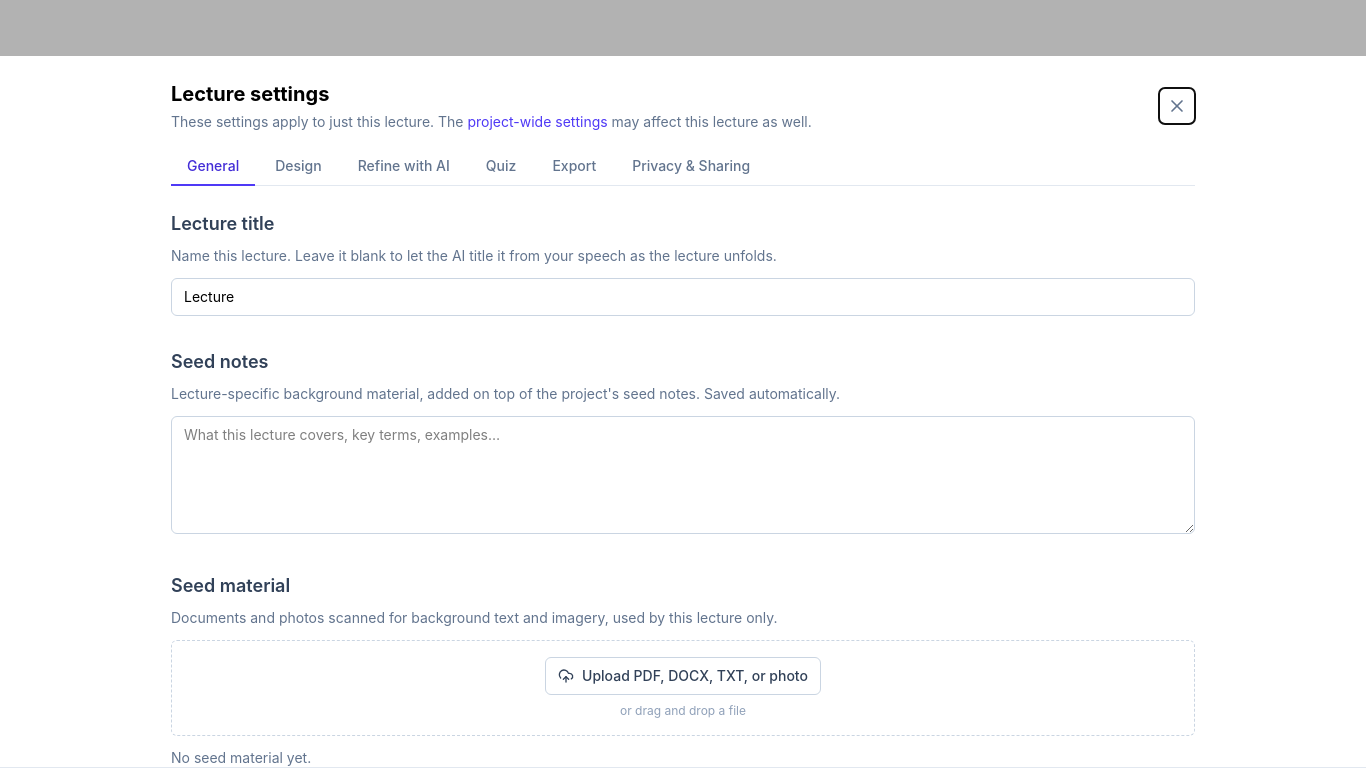
Test: DeckSettingsModal — Refine tab › disables speaker identification without retained audio
Click the tab "Refine with AI": [404, 167] box [342,148,466,186]
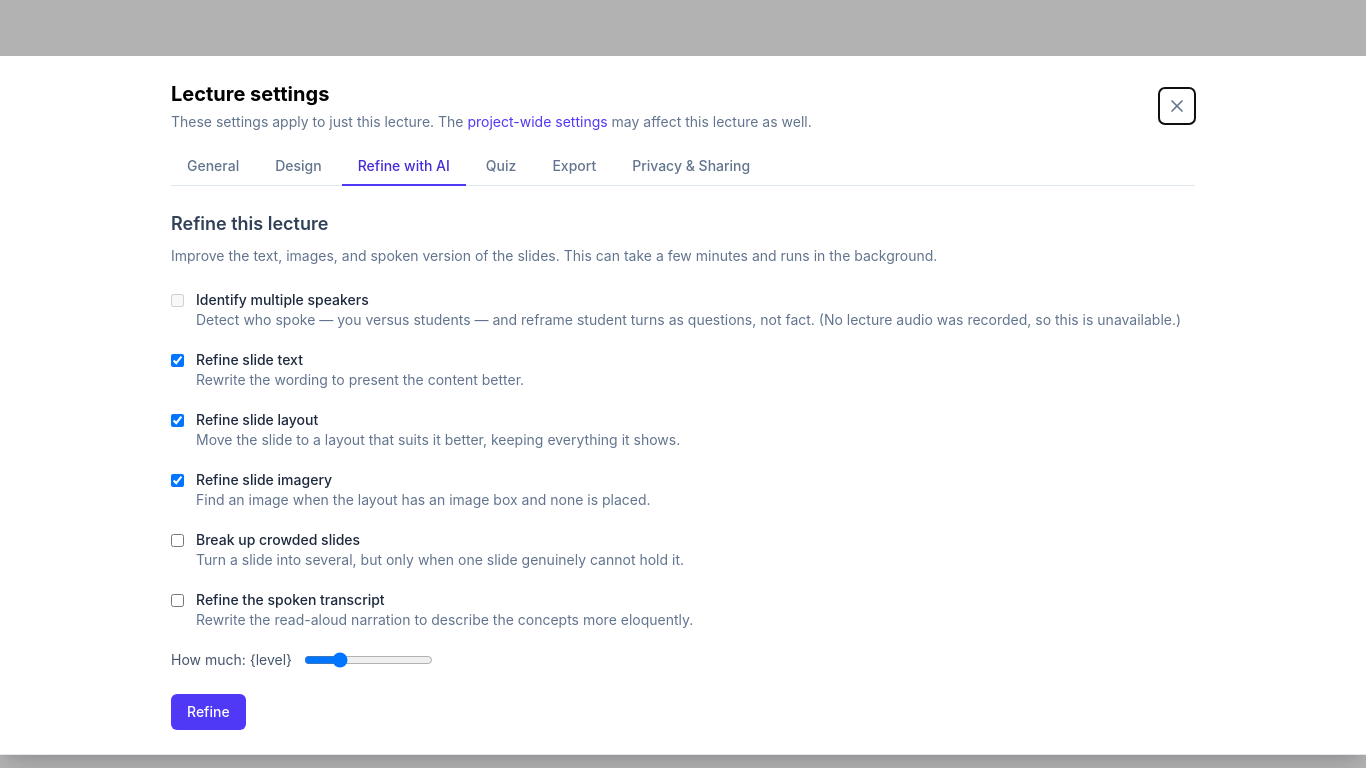
Check: the checkbox labelled "Identify multiple speakers" is disabled, box [171,294,184,307]
